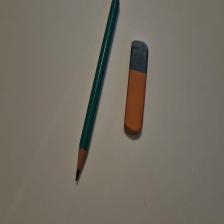eraser: (125, 41, 150, 136)
pencil: (76, 1, 120, 182)
